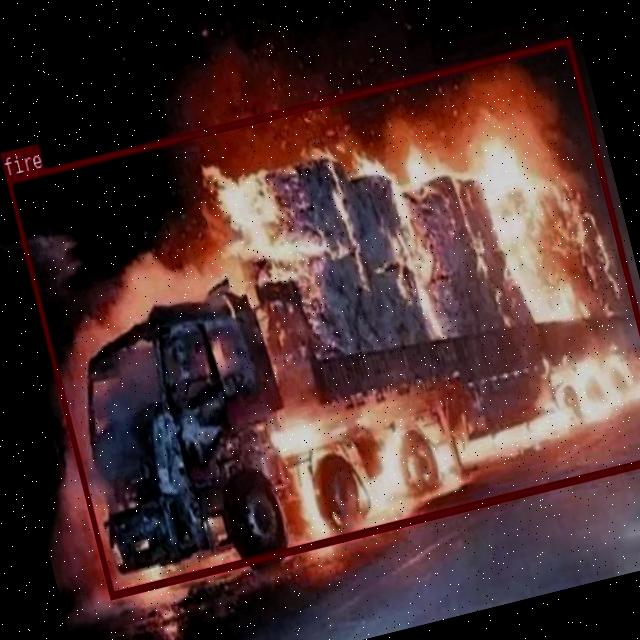fire: (5, 35, 640, 598)
